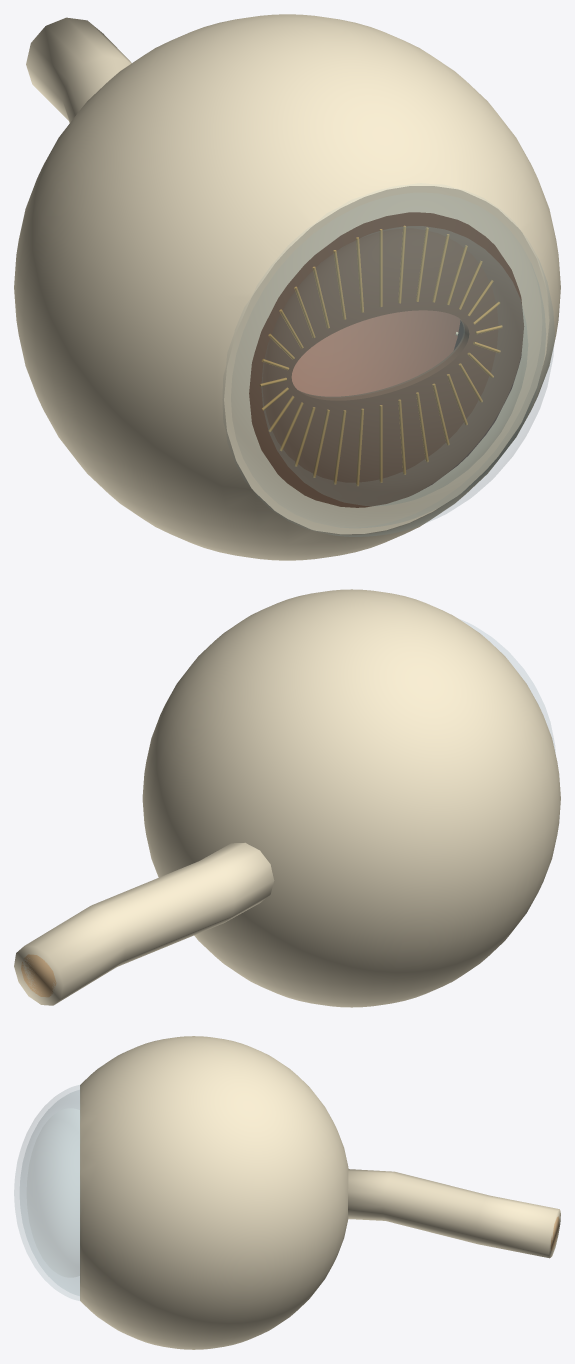
Rendered from 19_Cow_Eye_Model.glb.
The picture shows the model from 3 angles, top to bottom: view 1: azimuth 30°, elevation 25°; view 2: azimuth 150°, elevation 25°; view 3: azimuth 270°, elevation 25°; orthographic projection. The views are drawn at different scales.
Parts seen in each view (by area): view 1: 01_sclera_cornea_and_nerve_sheath, 04_iris_ciliary_body_and_horizontal_pupil, 08_aqueous_humour, 03_retina_and_retinal_vessels; view 2: 01_sclera_cornea_and_nerve_sheath, 06_optic_nerve_and_disc; view 3: 01_sclera_cornea_and_nerve_sheath, 08_aqueous_humour.
Part boxes in pixels (x1=…): 01_sclera_cornea_and_nerve_sheath: x1=14, y1=14, x2=560, y2=560; 04_iris_ciliary_body_and_horizontal_pupil: x1=249, y1=212, x2=524, y2=507; 08_aqueous_humour: x1=262, y1=226, x2=527, y2=505; 03_retina_and_retinal_vessels: x1=291, y1=310, x2=460, y2=396; 01_sclera_cornea_and_nerve_sheath: x1=14, y1=589, x2=560, y2=1007; 06_optic_nerve_and_disc: x1=21, y1=954, x2=56, y2=997; 01_sclera_cornea_and_nerve_sheath: x1=14, y1=1036, x2=560, y2=1349; 08_aqueous_humour: x1=27, y1=1109, x2=79, y2=1276.
Bounding box in the file's own units: 0.04 × 0.04 × 0.0697.
